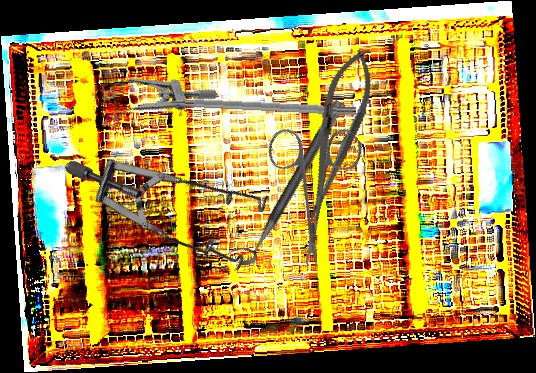Fixation Ring: (225, 90, 347, 271)
Hook Surgical: (146, 93, 357, 117)
Iris Scissors: (226, 94, 403, 271)
Needle Holder: (291, 44, 383, 227)
Speculum: (63, 79, 292, 316), (90, 50, 219, 138)
